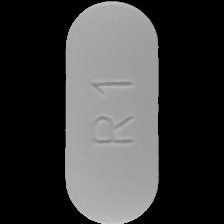50436-0555: (0, 0, 224, 224)
